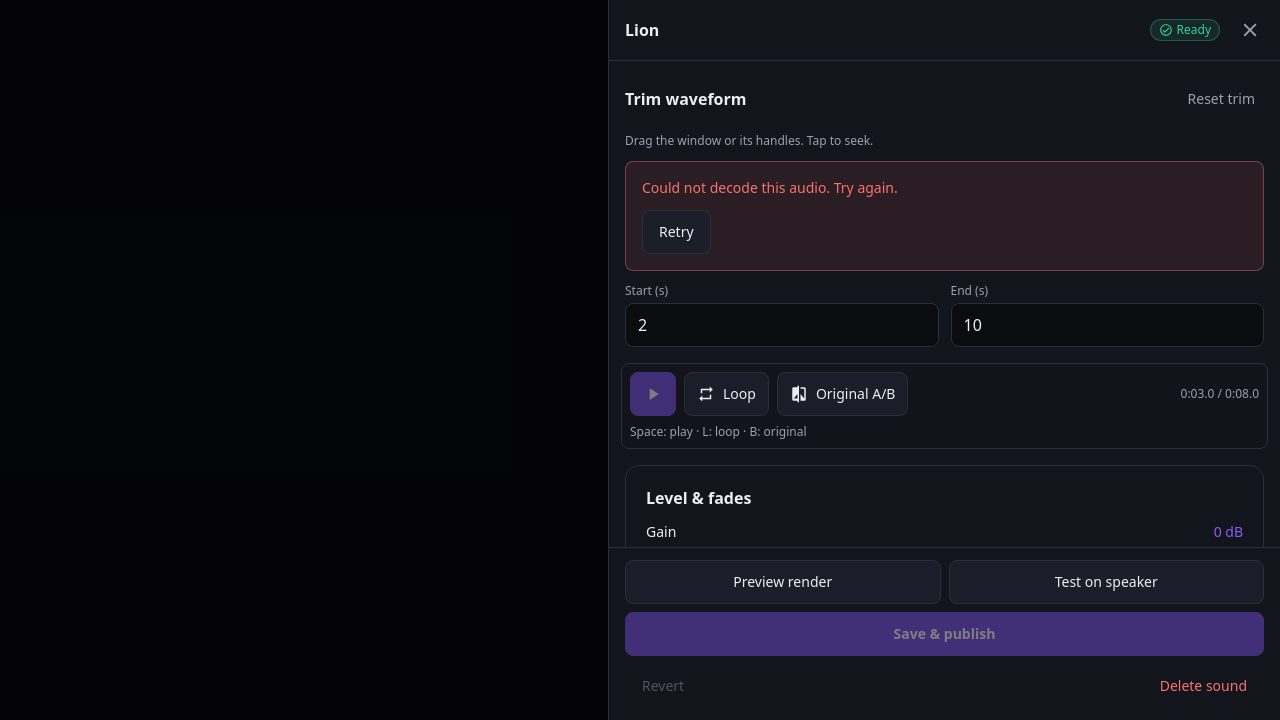
Test: updates transport positions relative to trim without rerendering the editor or announcing each frame
Expected: the text with test id "position" reads "0:03.0 / 0:08.0", [1180, 385, 1259, 402]
Click the button with test id "bypass" at (843, 394), box [777, 372, 908, 416]
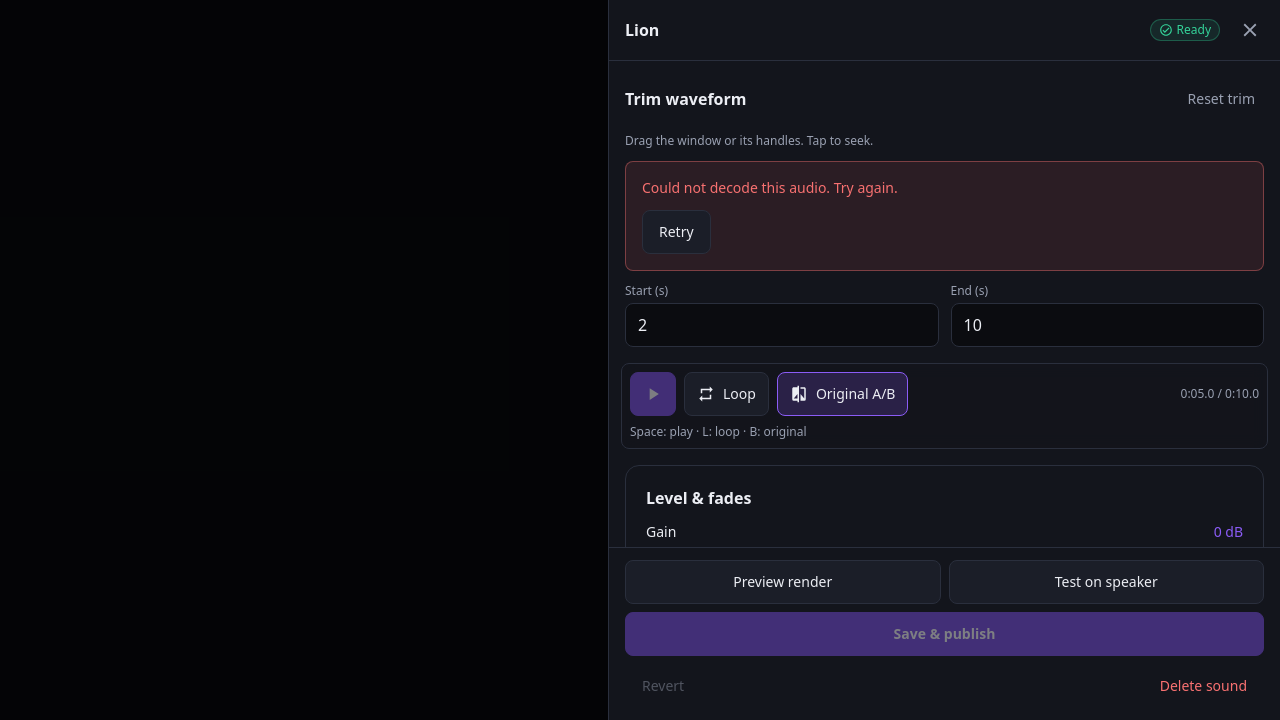
Now the text with test id "position" reads "0:05.0 / 0:10.0", box [1180, 385, 1259, 402]
